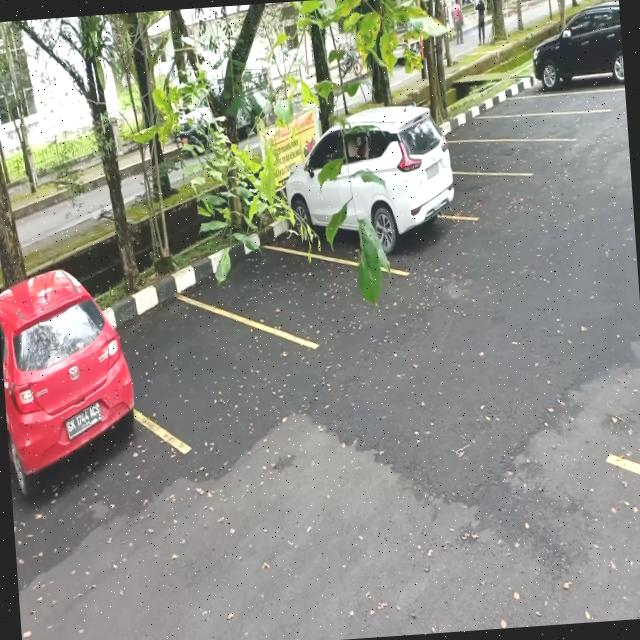empty: (133, 293, 252, 452), (231, 239, 366, 341), (485, 83, 626, 122), (458, 106, 582, 148), (452, 135, 554, 181)
occupied: (2, 348, 147, 524), (286, 162, 467, 282), (526, 30, 624, 96)
